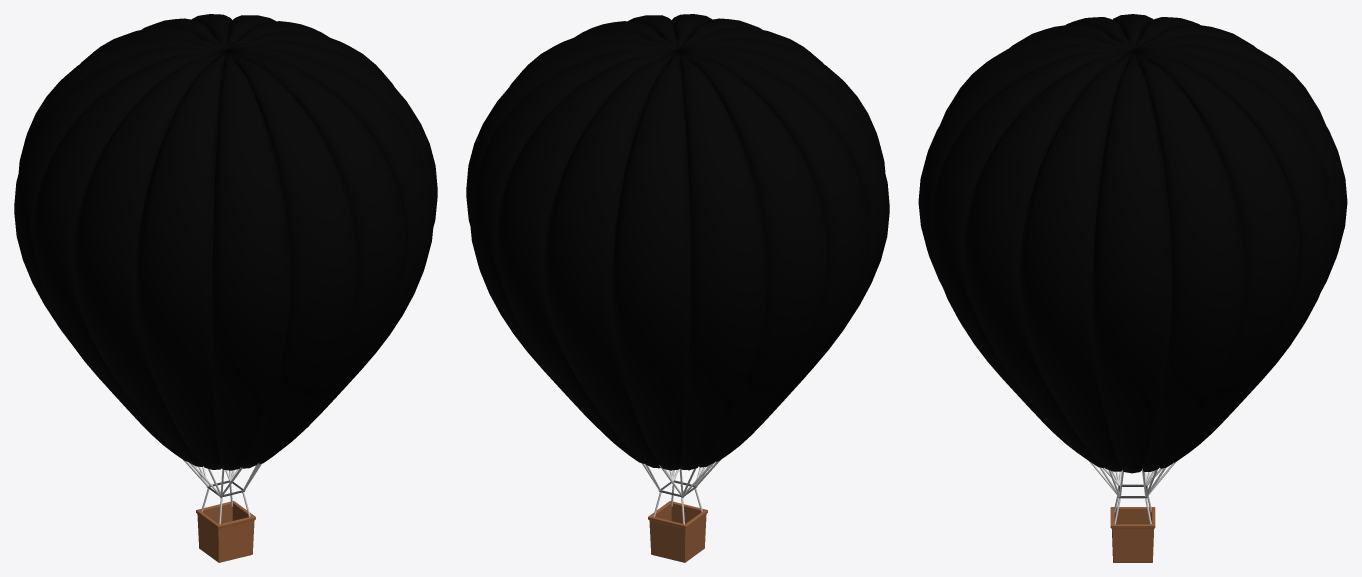
3 views of the same model, side by side, from view 1: azimuth 30°, elevation 25°; view 2: azimuth 150°, elevation 25°; view 3: azimuth 270°, elevation 25° (orthographic).
Parts seen in each view (by area): view 1: Sphere.001, Cube, Cylinder.004; view 2: Sphere.001, Cube, Cylinder.004; view 3: Sphere.001, Cube, Cylinder.004.
Part boxes in pixels (x1,y1,x2,y2): Sphere.001: (14, 14, 437, 470); Cube: (196, 501, 255, 562); Cylinder.004: (183, 460, 261, 497); Sphere.001: (466, 14, 889, 470); Cube: (648, 501, 707, 562); Cylinder.004: (642, 460, 720, 497); Sphere.001: (918, 14, 1347, 473); Cube: (1110, 507, 1155, 562); Cylinder.004: (1089, 461, 1176, 498).
Size of the model in its own units: 197 by 257 by 197.
